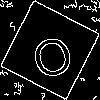O: (25, 25, 77, 81)
